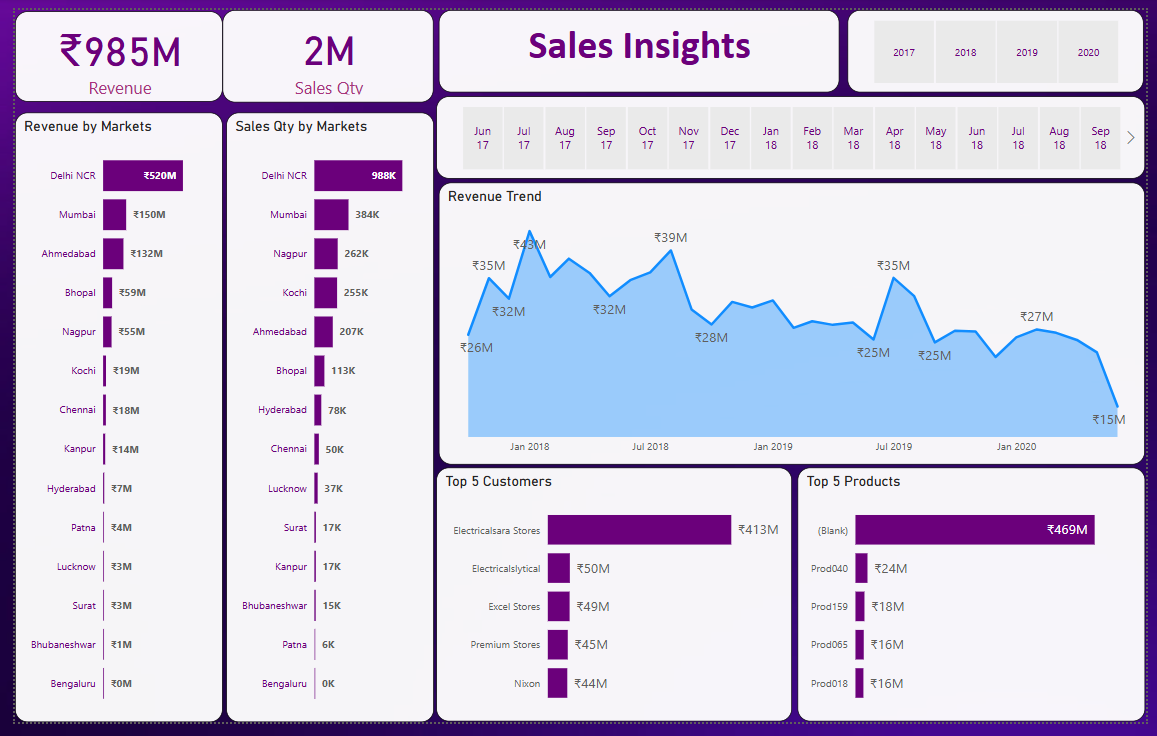

This screenshot's page, from the dashboard's own definition file:
{"tool":"powerbi","page":{"name":"Key Insights","canvas":[1350,850],"ordinal":0},"visuals":[{"type":"card","title":"Revenue","fields":{"Values":["BaseMeasures (2).Revenue"]},"box":[0,1.7,248.3,108.3],"z":0},{"type":"card","fields":{"Values":["BaseMeasures (2).Sales Qty"]},"box":[248,0,252,110],"z":1000},{"type":"barChart","title":"Revenue by Markets","fields":{"Y":["BaseMeasures (2).Revenue"],"Category":["sales markets.markets_name"]},"box":[0,122,248,728],"z":2000},{"type":"barChart","title":"Sales Qty by Markets","fields":{"Category":["sales markets.markets_name"],"Y":["BaseMeasures (2).Sales Qty"]},"box":[252,122,248,728],"z":3000},{"type":"slicer","fields":{"Values":["sales date.year"]},"box":[993.3,0,353.3,98.3],"z":4000},{"type":"slicer","fields":{"Values":["sales date.cy_date"]},"box":[503.3,103.3,846.7,98.3],"z":5000},{"type":"barChart","title":"Top 5 Customers","fields":{"Y":["BaseMeasures (2).Revenue"],"Category":["sales customers.custmer_name"]},"box":[503.3,546.7,425,303.3],"z":6000},{"type":"barChart","title":"Top 5 Products","fields":{"Y":["BaseMeasures (2).Revenue"],"Category":["sales products.product_code"]},"box":[935,546.7,415,303.3],"z":7000},{"type":"lineChart","title":"Revenue Trend","fields":{"Y":["BaseMeasures (2).Revenue"],"Category":["sales date.cy_date"]},"box":[506.7,206.7,843.3,336.7],"z":8000},{"type":"textbox","box":[506.7,0,478.3,98.3],"z":9000}]}

Visuals, with their boxes in screenshot pixels (x1, y1, x2, y2), scaled from the page's 1350x850 canvas onto the 1157x736 screenshot:
"Revenue" card: 0, 1, 213, 95
card - BaseMeasures (2).Sales Qty: 213, 0, 429, 95
"Revenue by Markets" barChart: 0, 106, 213, 735
"Sales Qty by Markets" barChart: 216, 106, 429, 735
slicer - sales date.year: 851, 0, 1154, 85
slicer - sales date.cy_date: 431, 89, 1156, 175
"Top 5 Customers" barChart: 431, 473, 796, 735
"Top 5 Products" barChart: 801, 473, 1156, 735
"Revenue Trend" lineChart: 434, 179, 1156, 471
textbox: 434, 0, 844, 85
